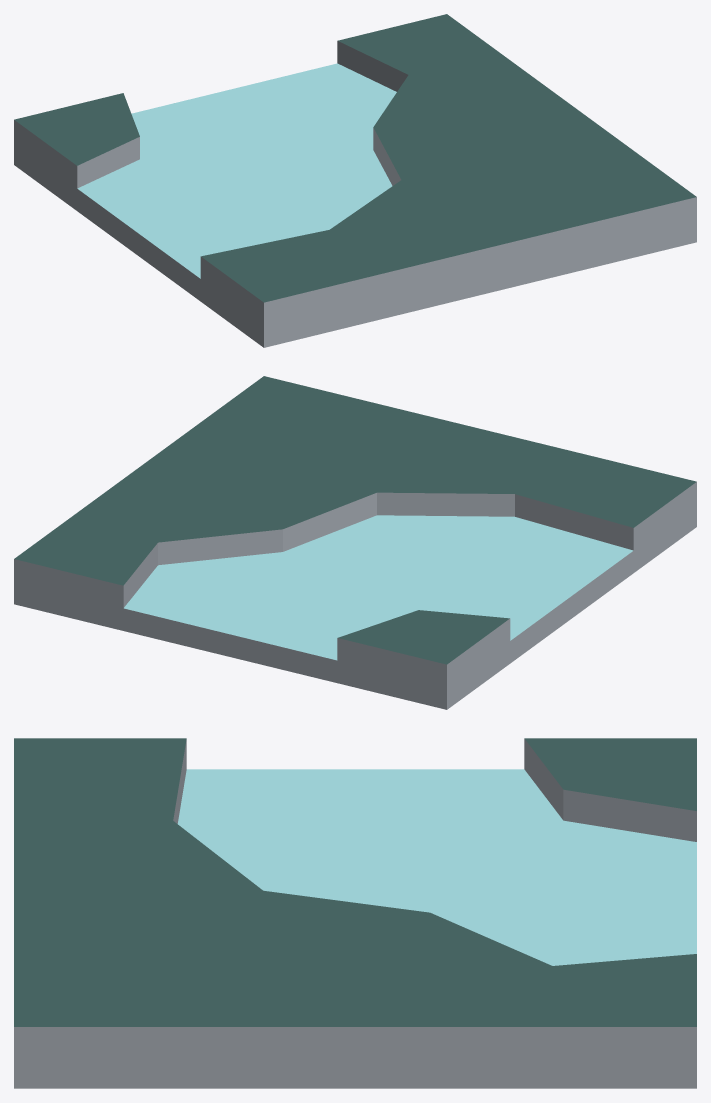
The model's file is naturePack_092.fbx.
3 views of the same model, one above another, from view 1: azimuth 30°, elevation 25°; view 2: azimuth 150°, elevation 25°; view 3: azimuth 270°, elevation 25° (orthographic). The views are drawn at different scales.
Parts seen in each view (by area): view 1: Mesh1_Plate_River_Corner Model; view 2: Mesh1_Plate_River_Corner Model; view 3: Mesh1_Plate_River_Corner Model.
Boxes of the visible parts, left/top/right/bottom form: Mesh1_Plate_River_Corner Model: left=14, top=14, right=696, bottom=347; Mesh1_Plate_River_Corner Model: left=14, top=376, right=696, bottom=709; Mesh1_Plate_River_Corner Model: left=14, top=738, right=696, bottom=1088.
Bounding box in the file's own units: 3 × 0.3 × 3.
